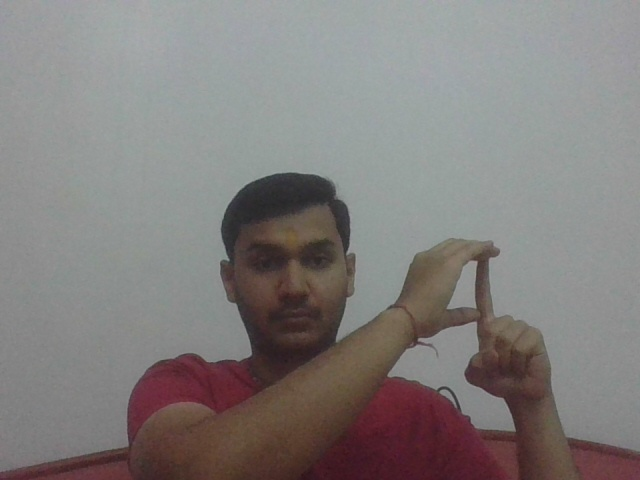D: (406, 234, 568, 398)
